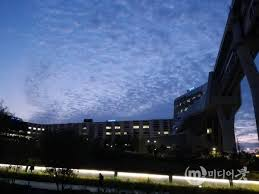sky: (1, 1, 212, 113)
